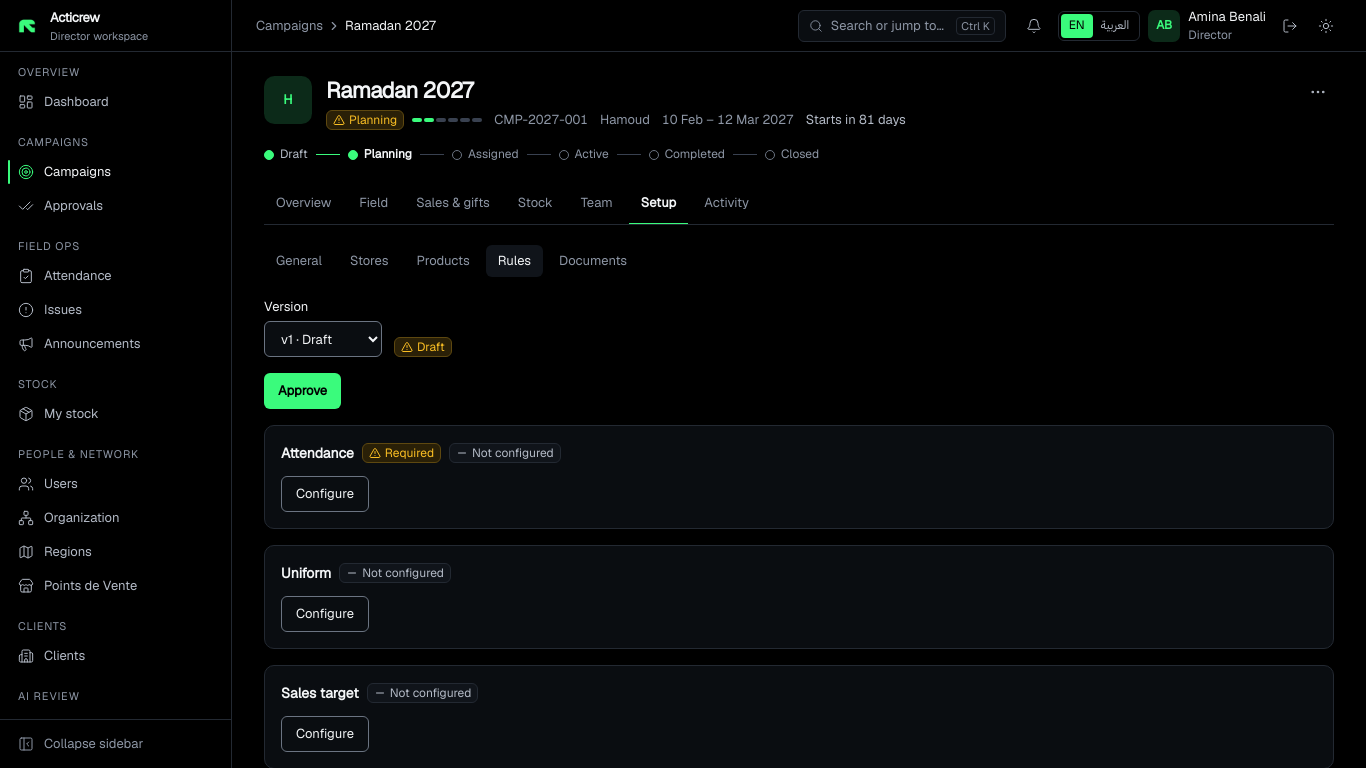
approval › blocks approval while required rules are missing, and shows the server verdict
Click the button "Approve" at (303, 391), box [264,373,341,409]
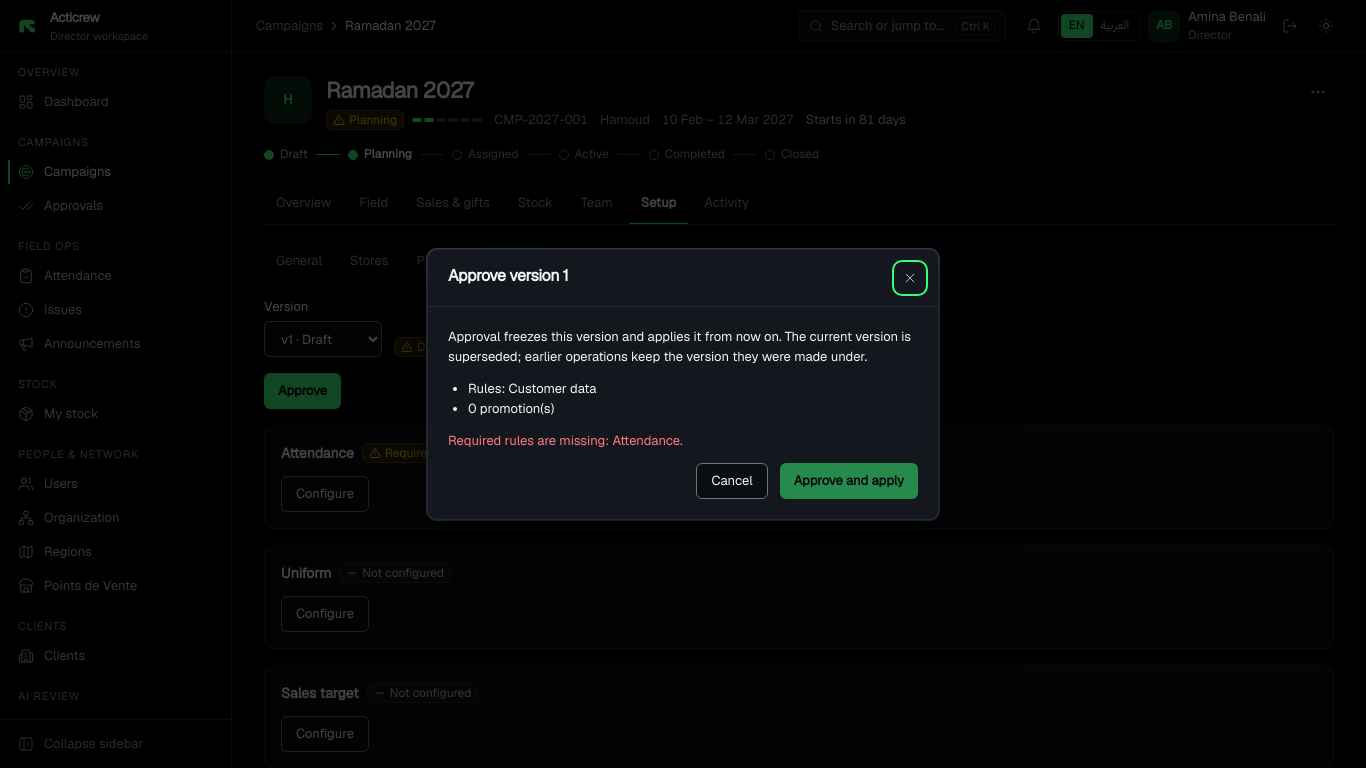
Check: the message reads "Required rules are missing: Attendance.", box [448,432,683,448]
Check: the button "Approve and apply" is disabled, box [780,462,918,498]
